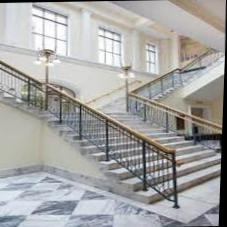Bench: (109, 106, 222, 191)
